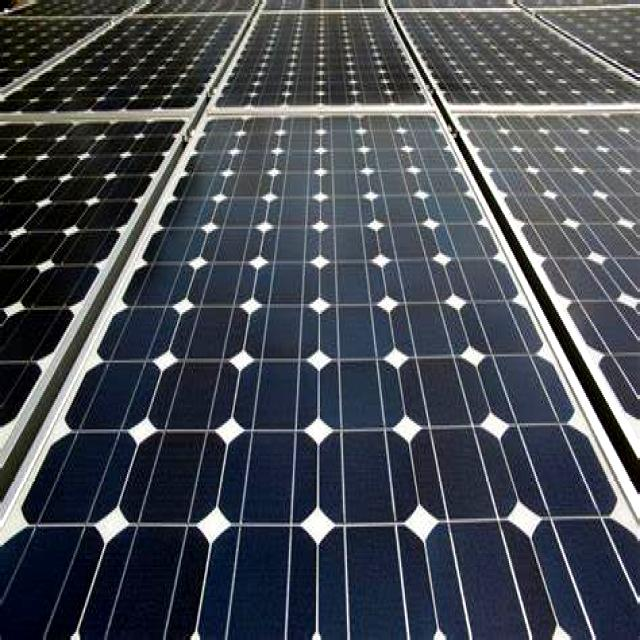crack: (298, 501, 462, 640), (192, 512, 359, 640), (296, 414, 440, 547), (208, 412, 332, 538), (97, 522, 226, 640), (306, 344, 426, 464), (308, 292, 428, 398), (125, 430, 239, 533), (140, 348, 256, 446), (394, 362, 516, 454), (376, 294, 499, 371), (230, 354, 333, 444), (165, 298, 271, 377), (233, 294, 334, 370), (182, 248, 270, 314)
